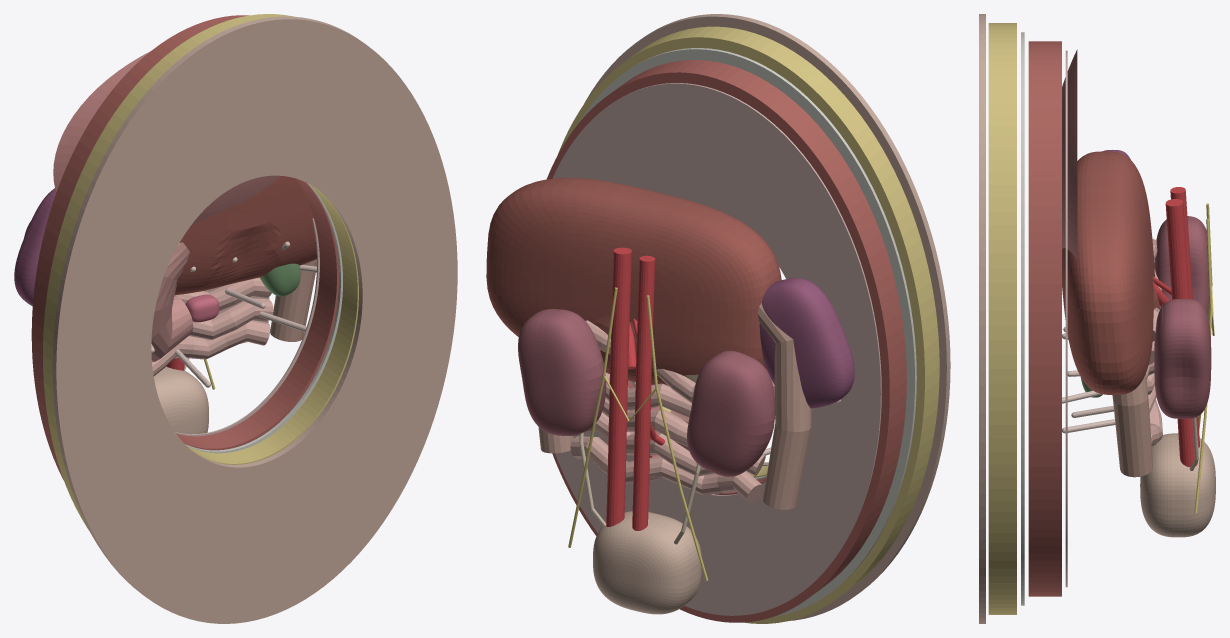
Rendered from dranmar_patient_pathology.glb.
3 views of the same model, side by side, from view 1: azimuth 30°, elevation 25°; view 2: azimuth 150°, elevation 25°; view 3: azimuth 270°, elevation 25° (orthographic). The views are drawn at different scales.
Parts seen in each view (by area): view 1: skin, abdominal_wall, subcutaneous_fat, liver, small_bowel, diaphragm, stomach, bladder, spleen, colon, fascia, adhesions (+3 smaller); view 2: peritoneum, liver, abdominal_wall, subcutaneous_fat, skin, major_vessels, fascia, right_kidney, left_kidney, bladder, small_bowel, spleen (+3 smaller); view 3: abdominal_wall, liver, subcutaneous_fat, right_kidney, bladder, skin, major_vessels, colon, diaphragm, left_kidney, fascia, peritoneum (+3 smaller).
Part boxes in pixels (left/top/right/bottom): skin: left=52, top=16, right=457, bottom=623; abdominal_wall: left=31, top=15, right=339, bottom=479; subcutaneous_fat: left=43, top=14, right=358, bottom=529; liver: left=174, top=176, right=316, bottom=295; small_bowel: left=152, top=277, right=273, bottom=376; diaphragm: left=53, top=51, right=280, bottom=224; stomach: left=151, top=242, right=193, bottom=362; bladder: left=154, top=366, right=208, bottom=434; spleen: left=14, top=188, right=56, bottom=305; colon: left=270, top=259, right=316, bottom=341; fascia: left=185, top=183, right=342, bottom=453; adhesions: left=151, top=241, right=316, bottom=387; peritoneum: left=552, top=83, right=881, bottom=615; liver: left=486, top=178, right=781, bottom=385; abdominal_wall: left=547, top=60, right=906, bottom=622; subcutaneous_fat: left=558, top=26, right=939, bottom=623; skin: left=584, top=14, right=950, bottom=620; major_vessels: left=606, top=247, right=664, bottom=530; fascia: left=578, top=48, right=916, bottom=616; right_kidney: left=518, top=309, right=606, bottom=435; left_kidney: left=687, top=351, right=775, bottom=476; bladder: left=593, top=511, right=701, bottom=614; small_bowel: left=570, top=320, right=765, bottom=502; spleen: left=759, top=278, right=854, bottom=408; abdominal_wall: left=1028, top=41, right=1061, bottom=596; liver: left=1062, top=151, right=1160, bottom=394; subcutaneous_fat: left=988, top=23, right=1016, bottom=614; right_kidney: left=1154, top=299, right=1211, bottom=418; bladder: left=1140, top=433, right=1215, bottom=537; skin: left=979, top=14, right=985, bottom=623; major_vessels: left=1153, top=187, right=1199, bottom=467; colon: left=1112, top=373, right=1152, bottom=477; diaphragm: left=1062, top=49, right=1077, bottom=259; left_kidney: left=1154, top=216, right=1209, bottom=314; fascia: left=1021, top=32, right=1024, bottom=605; peritoneum: left=1065, top=50, right=1067, bottom=587.
Bounding box in the file's own units: 0.38 × 0.54 × 0.2.
